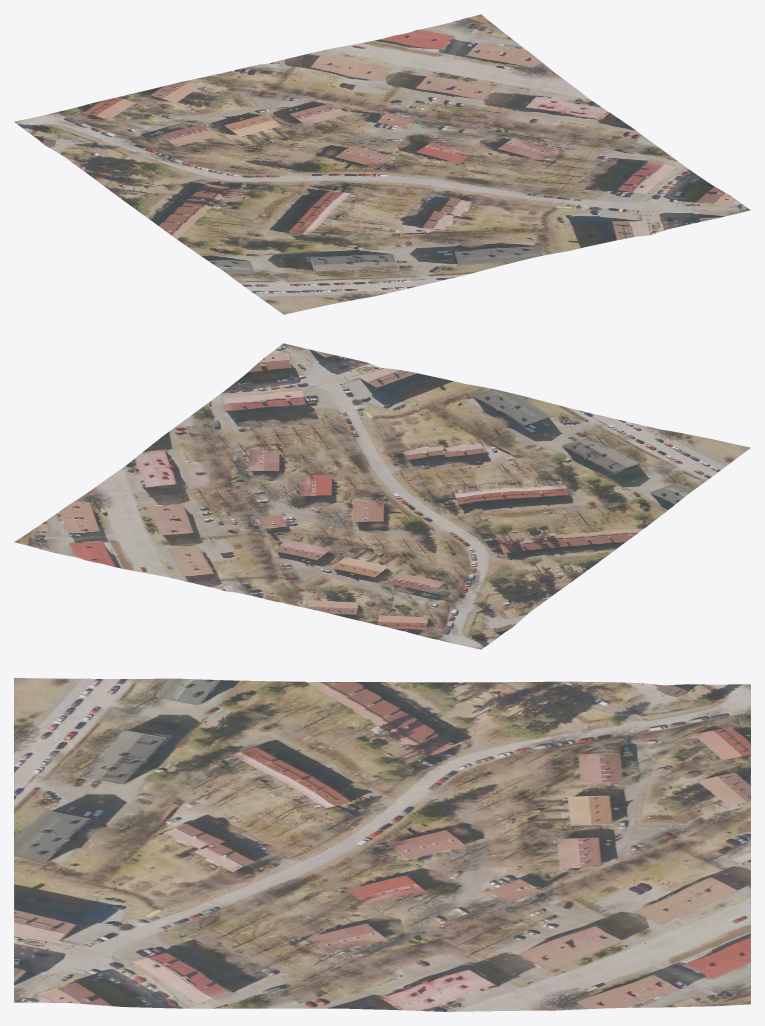
Rendered from CM_Terrain_24490049_6821227.fbx.
The picture shows the model from 3 angles, top to bottom: view 1: azimuth 30°, elevation 25°; view 2: azimuth 150°, elevation 25°; view 3: azimuth 270°, elevation 25°; orthographic projection. The views are drawn at different scales.
Visible parts, largest first — view 1: CM_Terrain_24490049_6821227_LOD0; view 2: CM_Terrain_24490049_6821227_LOD0; view 3: CM_Terrain_24490049_6821227_LOD0.
Part boxes in pixels (box(x1,y1,x2,y2)): CM_Terrain_24490049_6821227_LOD0: box(14, 14, 750, 314); CM_Terrain_24490049_6821227_LOD0: box(14, 343, 750, 649); CM_Terrain_24490049_6821227_LOD0: box(14, 678, 750, 1011).
Size of what is drawn, in the model's own units: 205 by 6.88 by 205.
